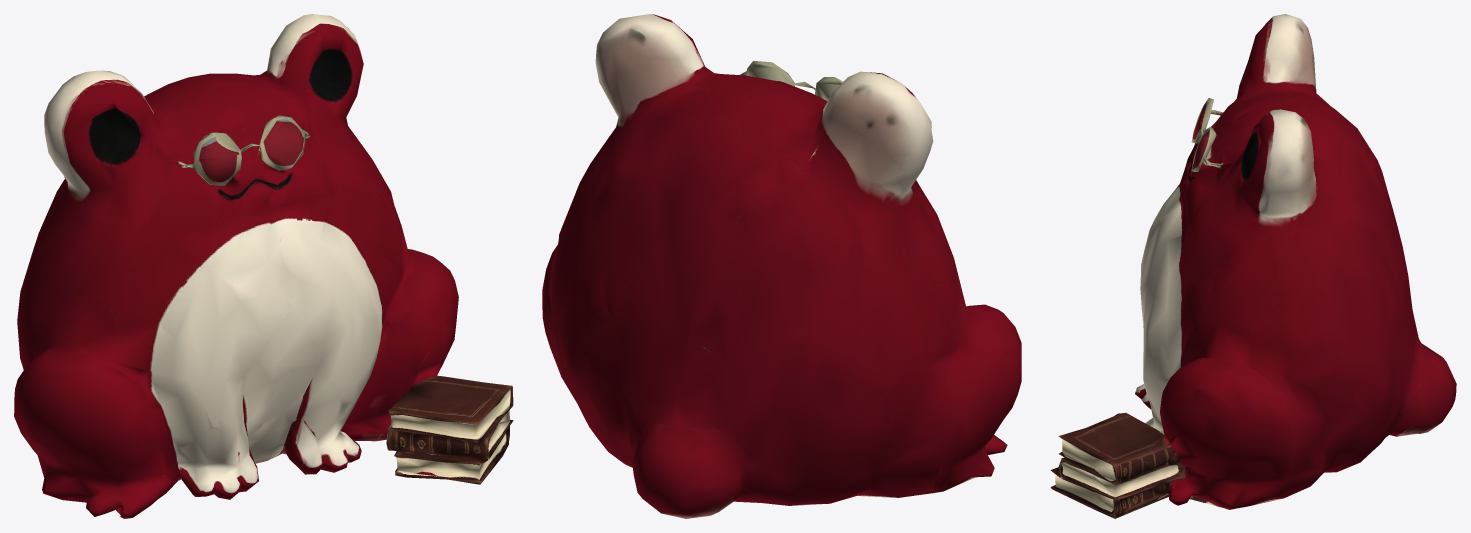
File: bibliothecaire.glb
3 renders of one model, left to right at view 1: azimuth 30°, elevation 25°; view 2: azimuth 150°, elevation 25°; view 3: azimuth 270°, elevation 25°, orthographic. The views are drawn at different scales.
Parts seen in each view (by area): view 1: mesh_node; view 2: mesh_node; view 3: mesh_node.
Boxes of the visible parts, x1,y1,x2,y2 form: mesh_node: (14, 14, 513, 518); mesh_node: (542, 14, 1021, 518); mesh_node: (1050, 14, 1456, 518).
Size of the model in its own units: 1.89 by 1.64 by 1.68.
1 material, 1 textured.
